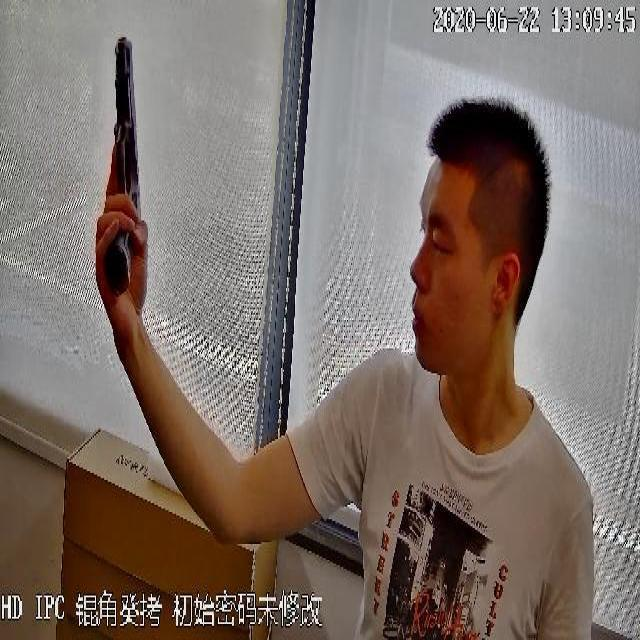pistol: (96, 35, 144, 298)
